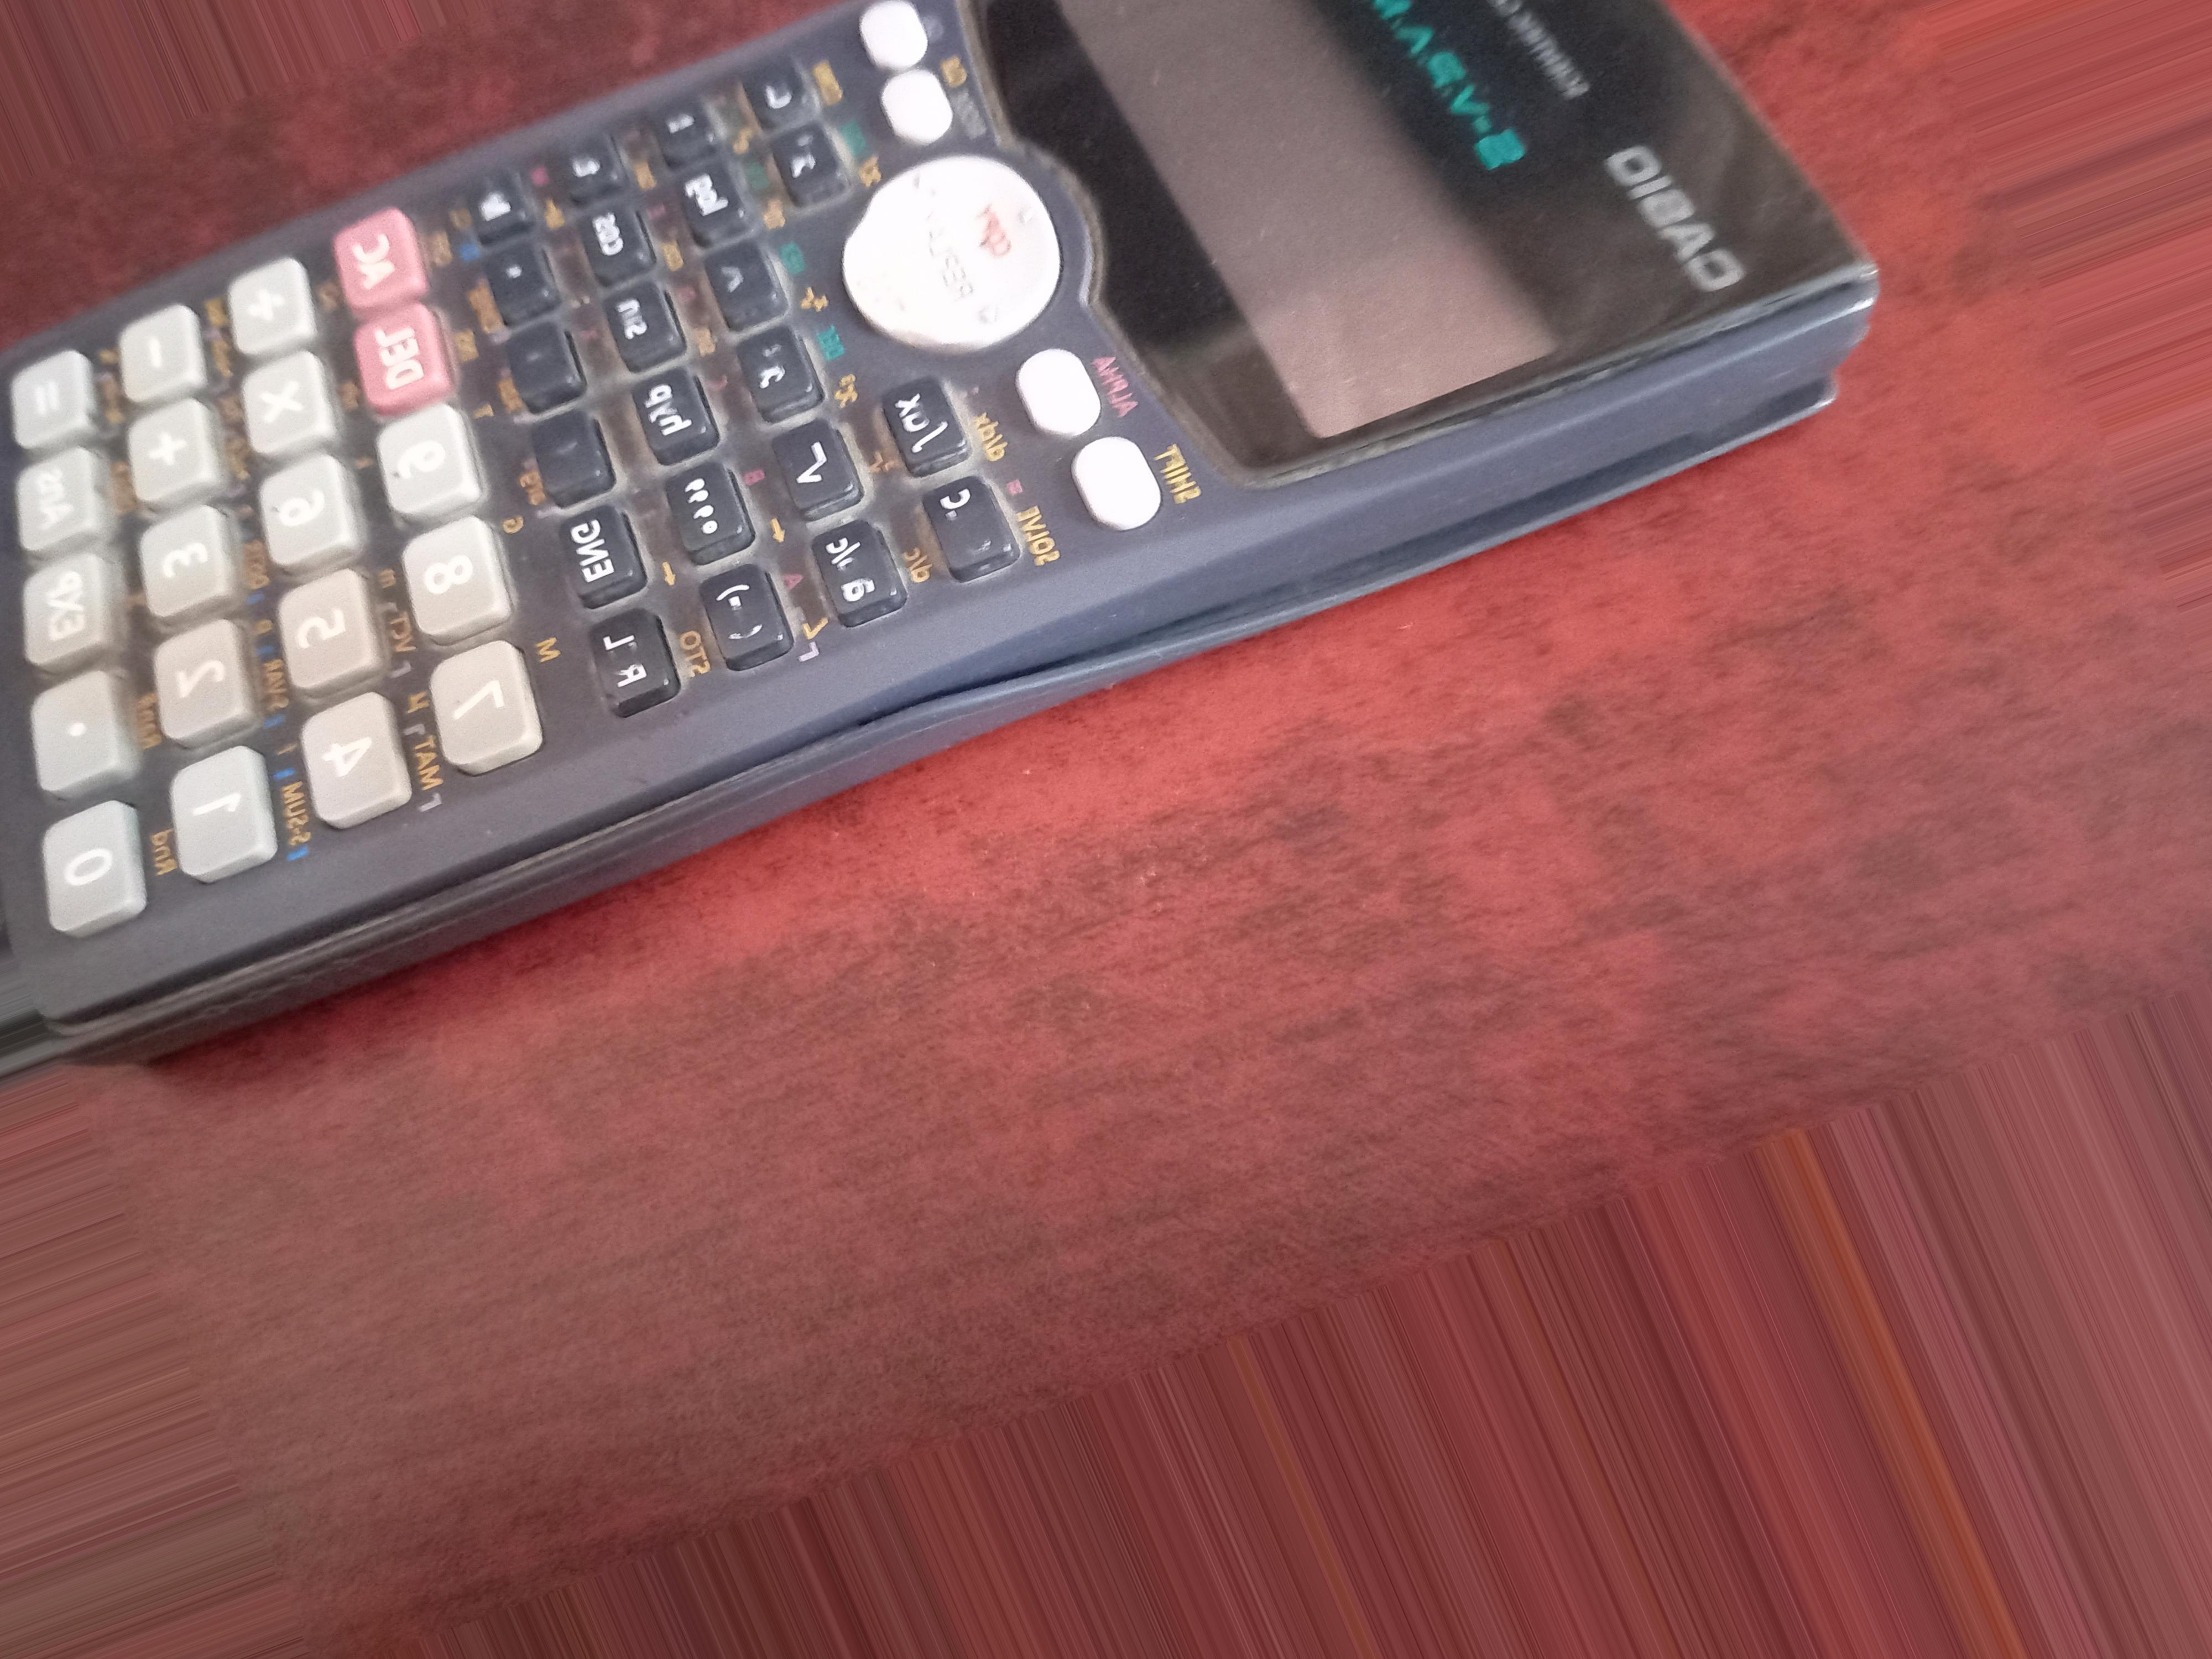calculator: (0, 0, 1853, 843)
